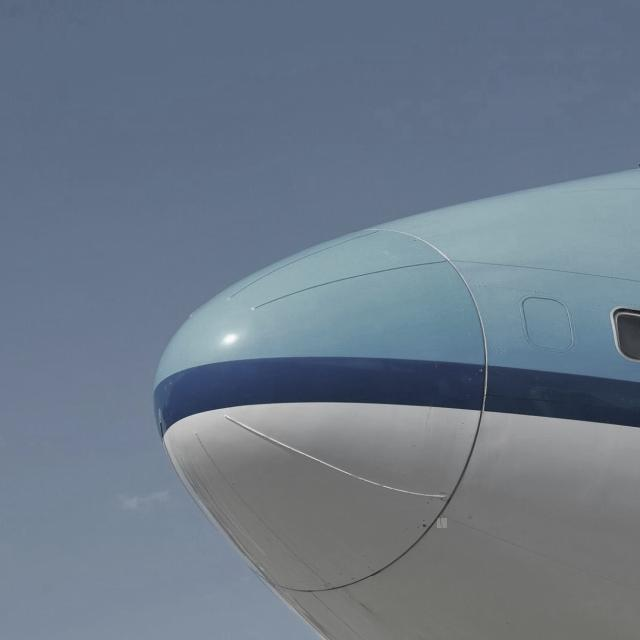crack: (438, 519, 448, 530)
